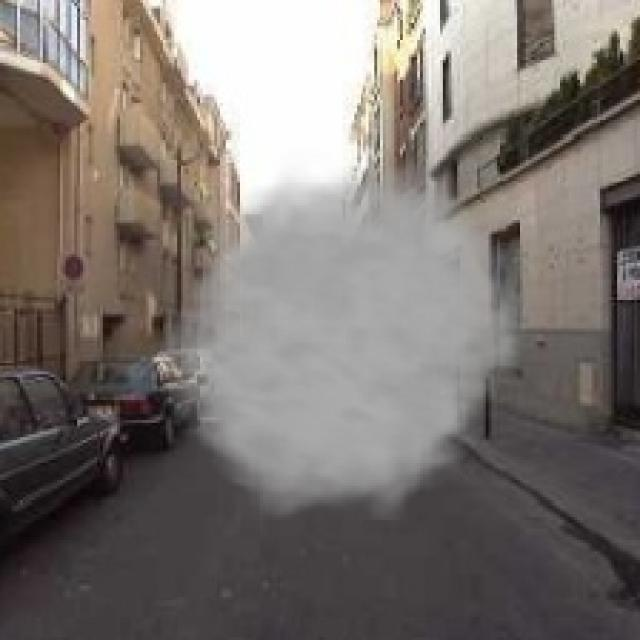smoke: (143, 149, 537, 520)
